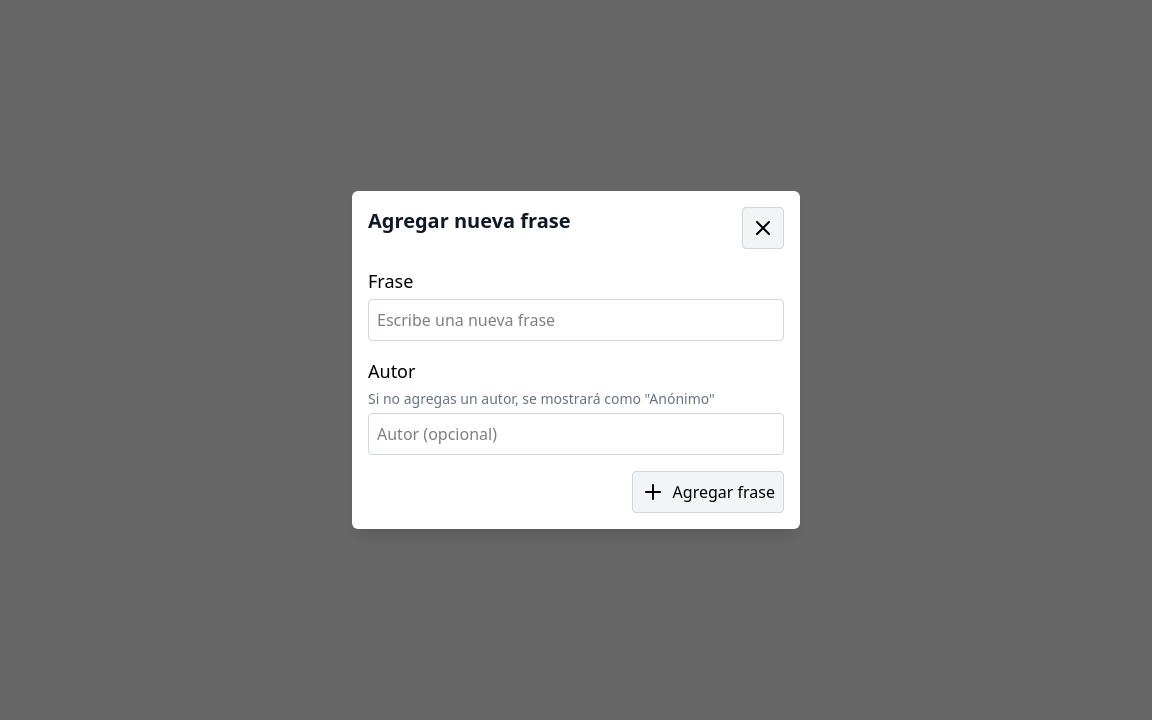
Test: AddPhrase › should show error when submitting without text
Click the button "Agregar frase" at (708,492), box [632,471,784,513]
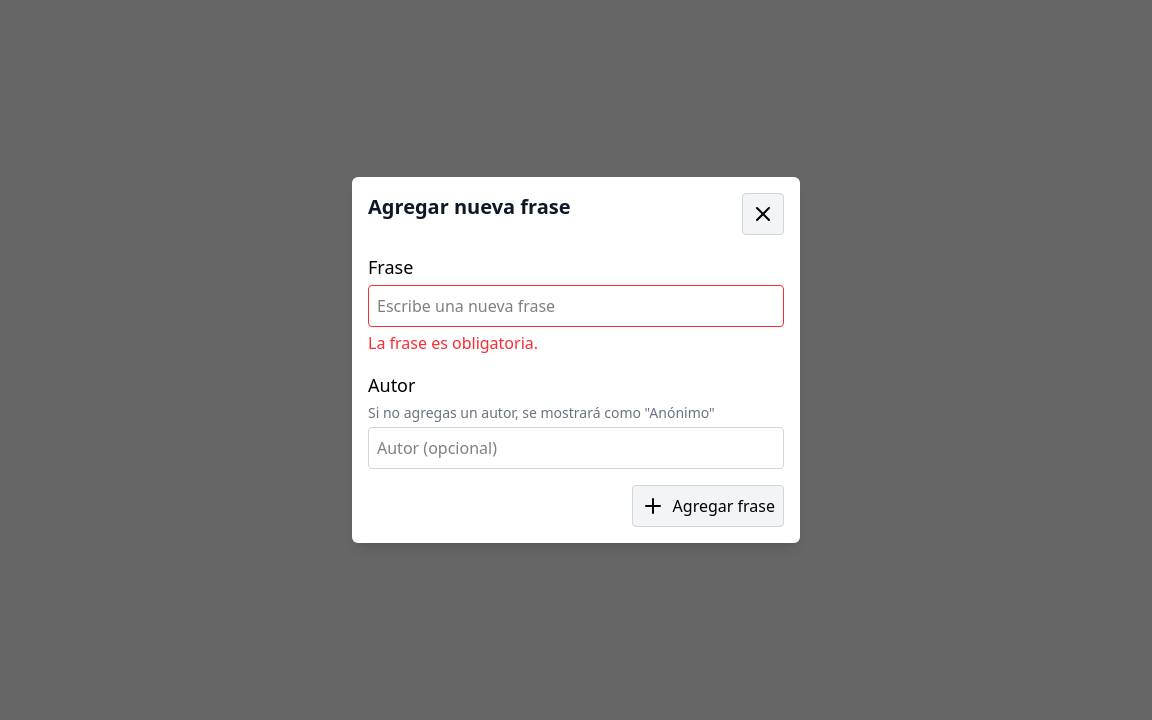
Result: the text "La frase es obligatoria." is shown at [368,332,538,354]
